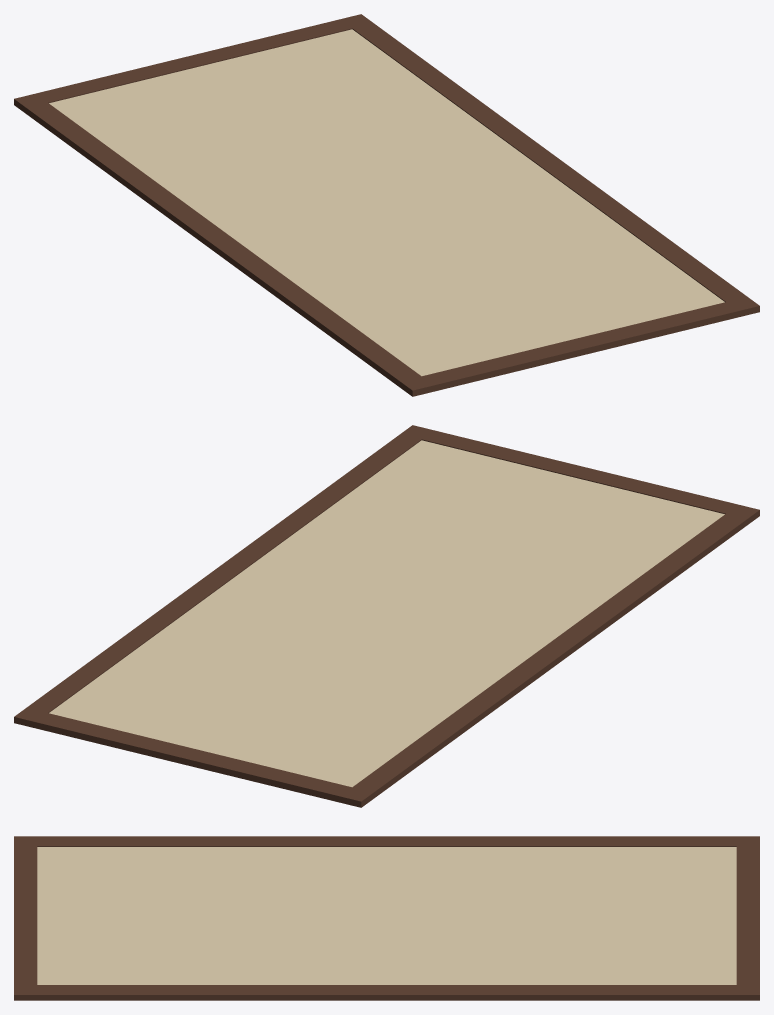
The model's file is chieu_coi_thien.obj.
3 renders of one model, top to bottom at view 1: azimuth 30°, elevation 25°; view 2: azimuth 150°, elevation 25°; view 3: azimuth 270°, elevation 25°, orthographic. The views are drawn at different scales.
Bounding box in the file's own units: 0.81 × 0.014 × 1.61.
